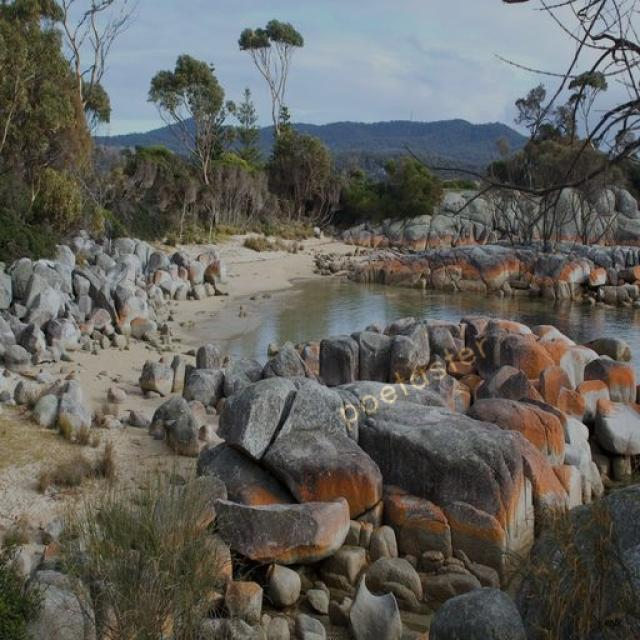watermark: (334, 325, 493, 431)
